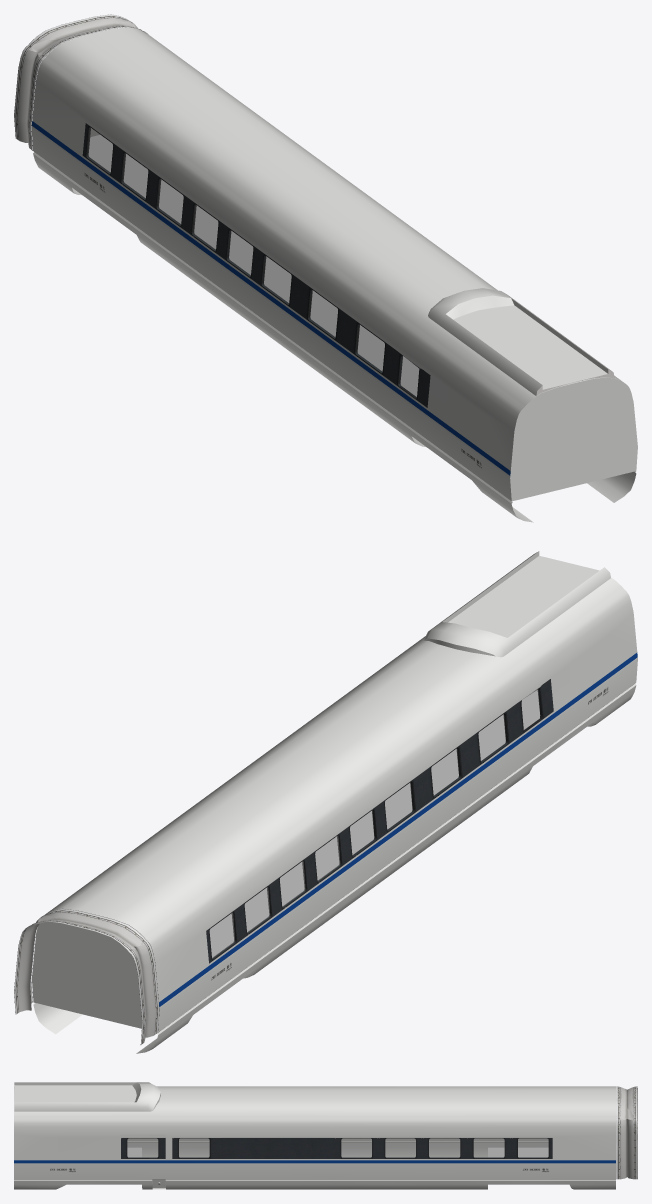
3 renders of one model, top to bottom at view 1: azimuth 30°, elevation 25°; view 2: azimuth 150°, elevation 25°; view 3: azimuth 270°, elevation 25°, orthographic. The views are drawn at different scales.
Visible parts, largest first — view 1: crh3_4hcxdbwk, crh3_4hcxdbbl, crh3_gdwk011; view 2: crh3_4hcxdbwk, crh3_4hcxdbbl, crh3_gdwk011; view 3: crh3_4hcxdbwk, crh3_4hcxdbbl, crh3_gdwk011.
Boxes of the visible parts, x1,y1,x2,y2 form: crh3_4hcxdbwk: (31,27,637,522); crh3_4hcxdbbl: (87,127,419,396); crh3_gdwk011: (14,14,148,150); crh3_4hcxdbwk: (32,551,637,1053); crh3_4hcxdbbl: (209,689,540,958); crh3_gdwk011: (14,908,159,1044); crh3_4hcxdbwk: (14,1082,615,1189); crh3_4hcxdbbl: (127,1138,548,1157); crh3_gdwk011: (616,1086,637,1179).
Size of the model in its own units: 382 by 398 by 2556.
